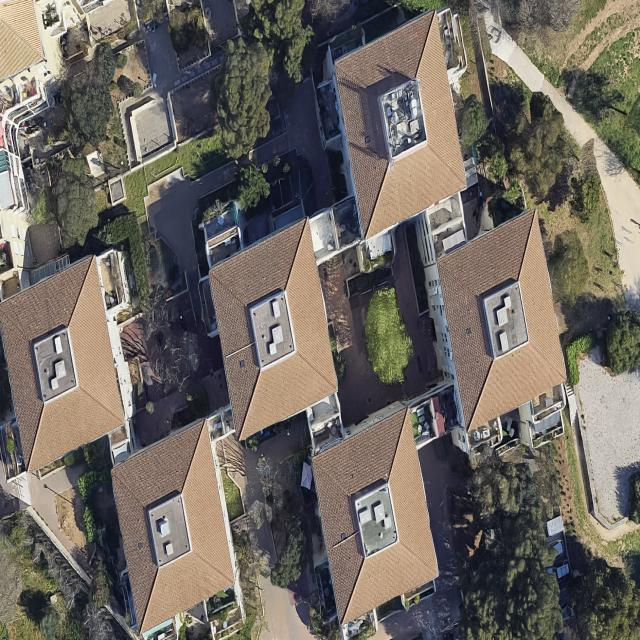maison: (417, 209, 573, 435), (323, 11, 475, 239), (0, 255, 143, 473), (203, 219, 344, 439), (305, 408, 444, 624), (105, 421, 241, 634)
